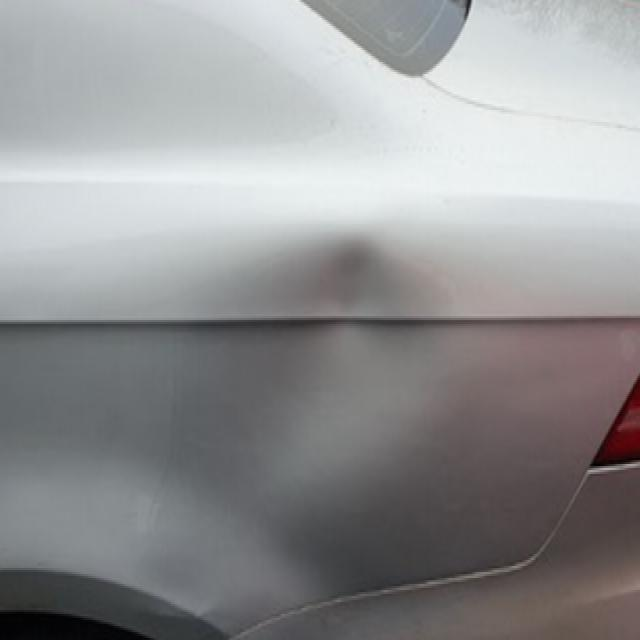dents: (288, 208, 482, 392)
